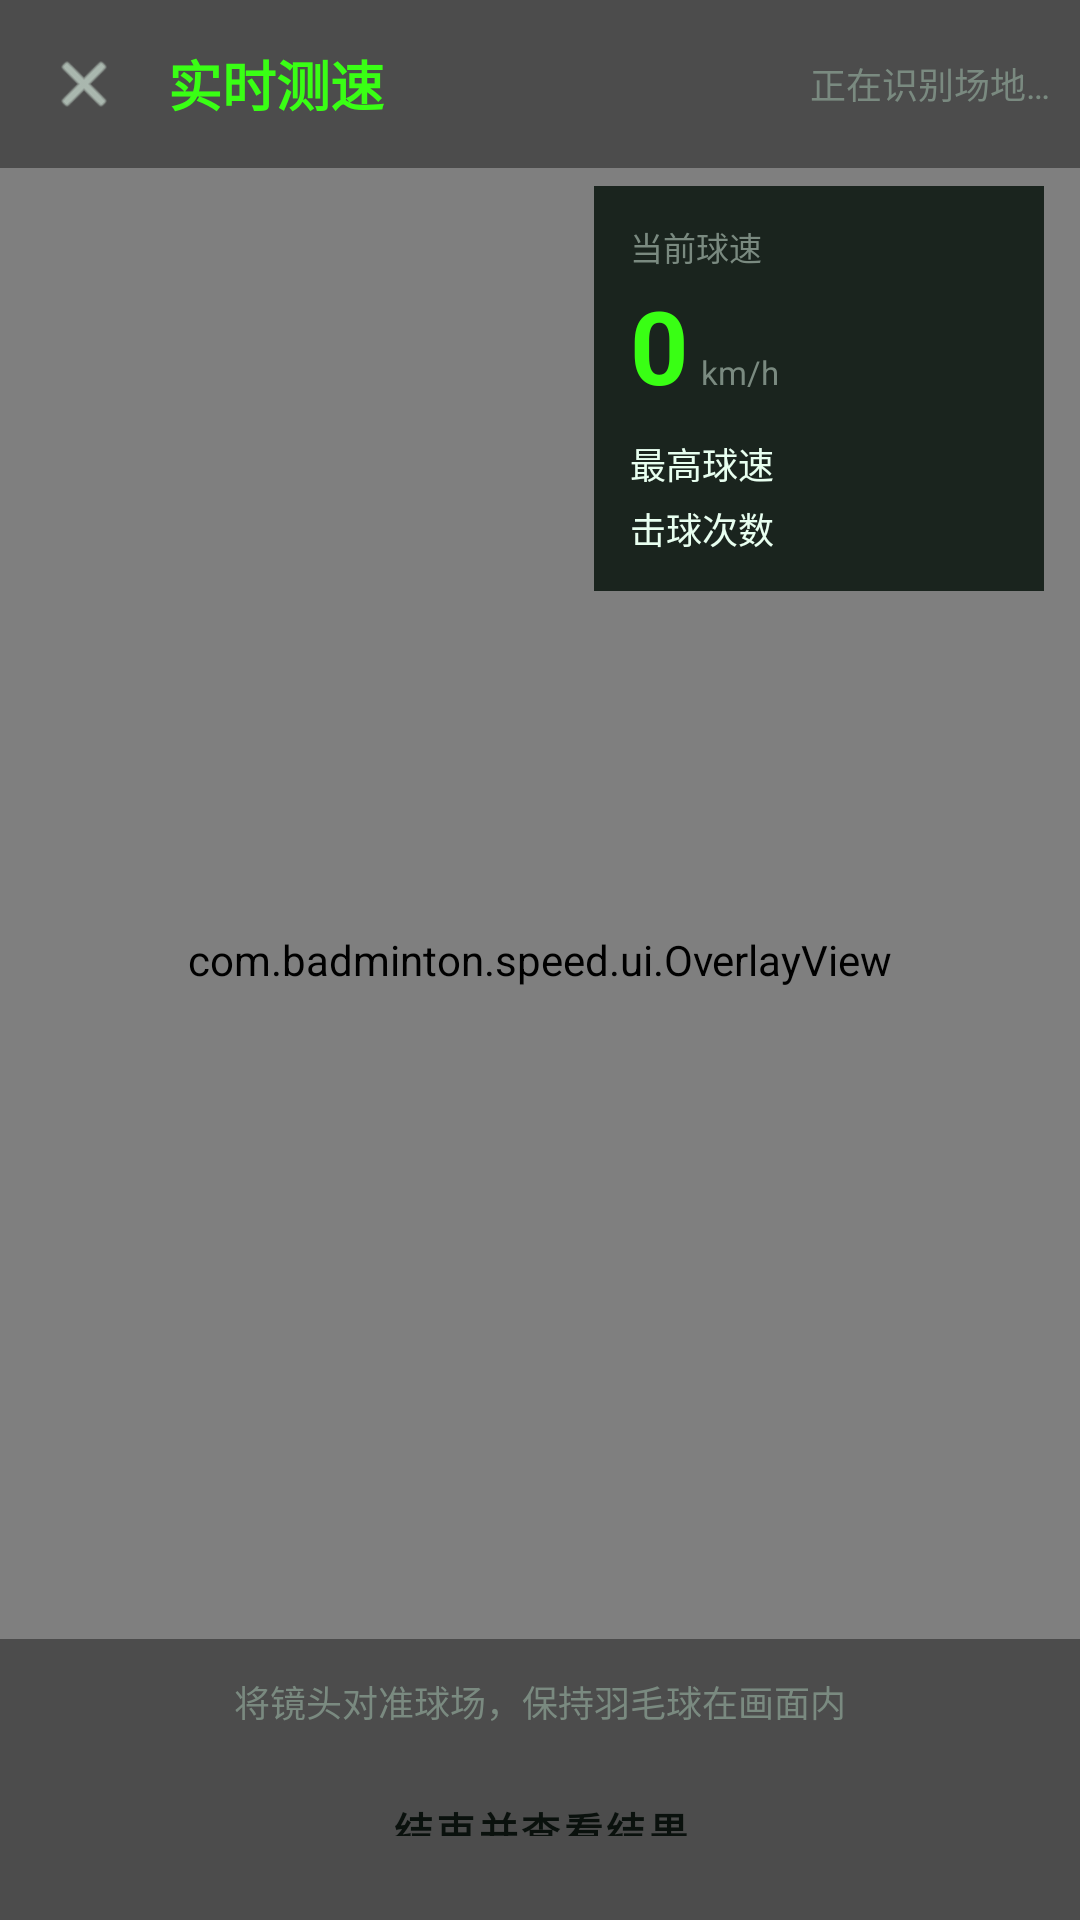

Icon bounding boxes for this 1080px x 1920px phone screenshot, format rect(x1, y1, x2, y2):
关闭: rect(62, 62, 106, 106)
